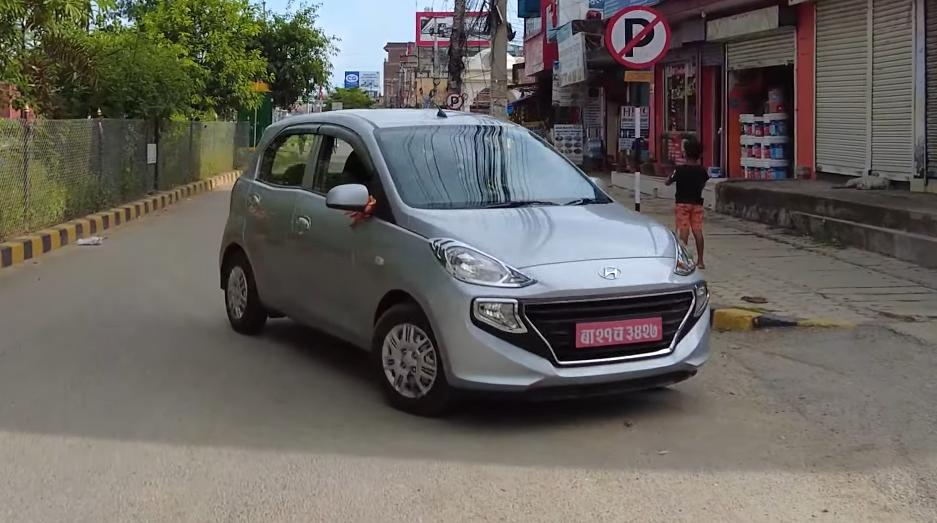car: (209, 107, 724, 414)
